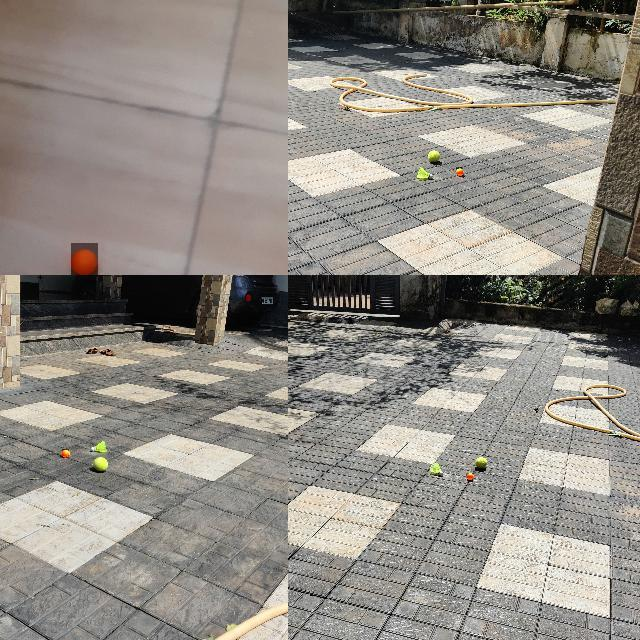ping-pong-ball: (71, 243, 100, 274), (456, 167, 464, 175), (62, 449, 70, 457), (466, 472, 474, 480)
